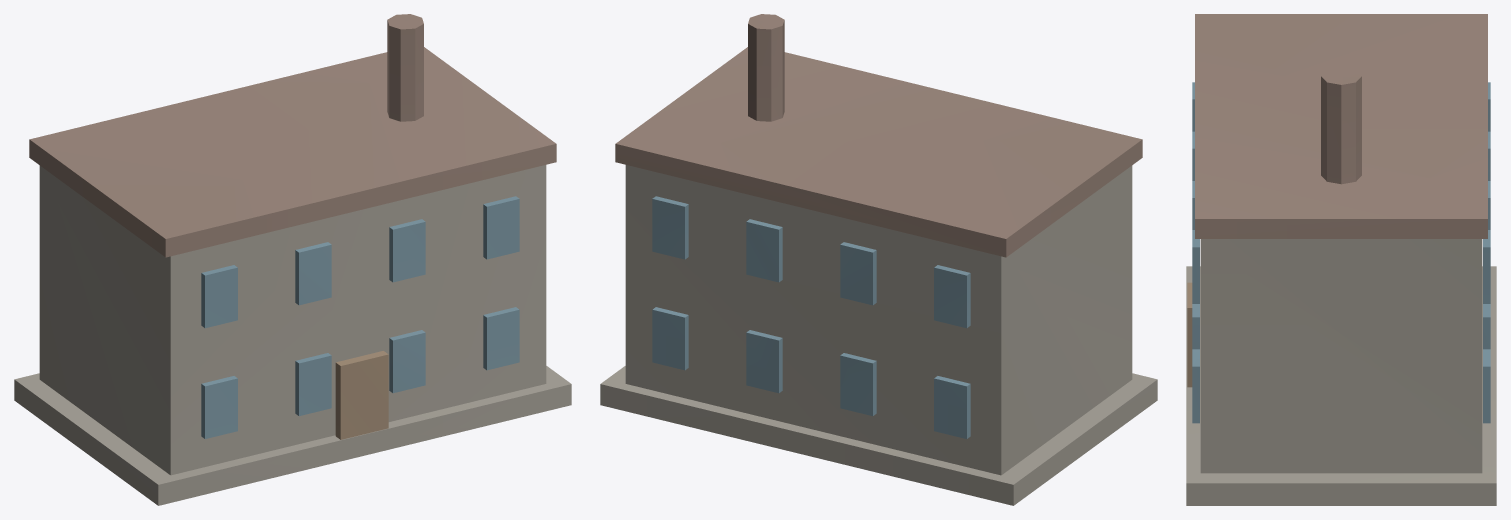
Rendered from factory-03.glb.
3 renders of one model, left to right at view 1: azimuth 30°, elevation 25°; view 2: azimuth 150°, elevation 25°; view 3: azimuth 270°, elevation 25°, orthographic. The views are drawn at different scales.
Parts seen in each view (by area): view 1: world; view 2: world; view 3: world.
Boxes of the visible parts, left/top/right/bottom form: world: left=14, top=14, right=571, bottom=505; world: left=600, top=14, right=1157, bottom=505; world: left=1186, top=14, right=1496, bottom=505.
Bounding box in the file's own units: 1.64 × 1.34 × 0.99.
